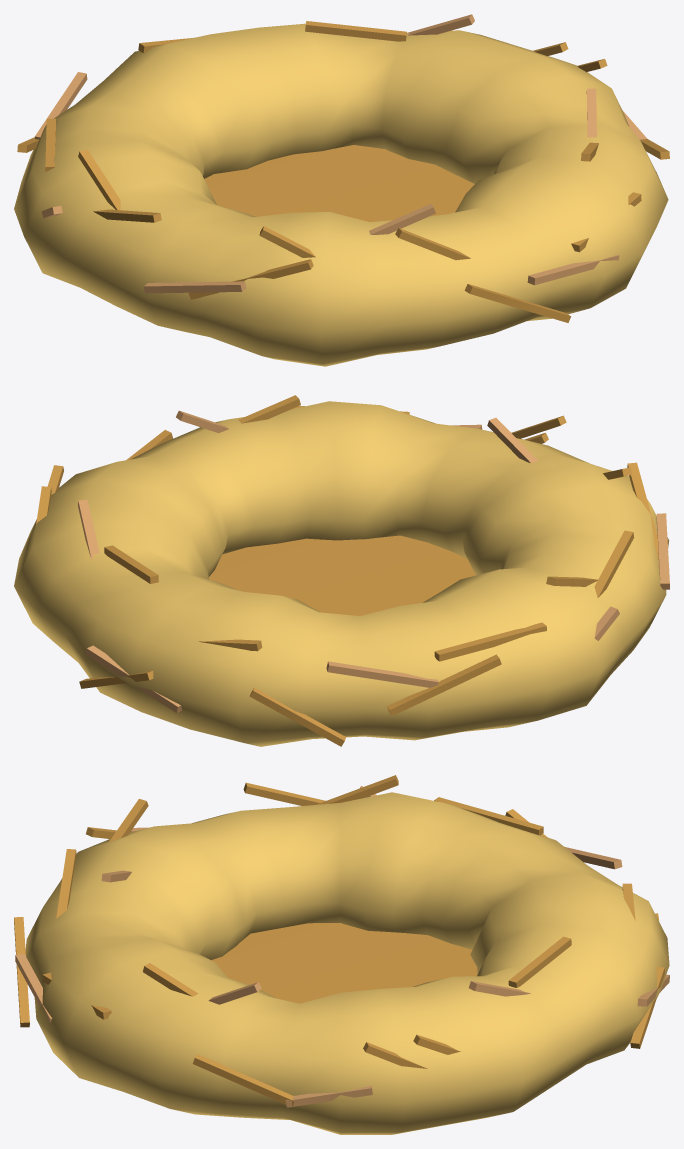
Rendered from prop_nest.glb.
3 renders of one model, top to bottom at view 1: azimuth 30°, elevation 25°; view 2: azimuth 150°, elevation 25°; view 3: azimuth 270°, elevation 25°, orthographic.
Parts seen in each view (by area): view 1: prop_nest; view 2: prop_nest; view 3: prop_nest.
Part boxes in pixels (box(x1,y1,x2,y2)): prop_nest: box(14, 14, 669, 366); prop_nest: box(14, 395, 669, 746); prop_nest: box(14, 775, 669, 1134).
Bounding box in the file's own units: 1.75 × 0.4287 × 1.75.
